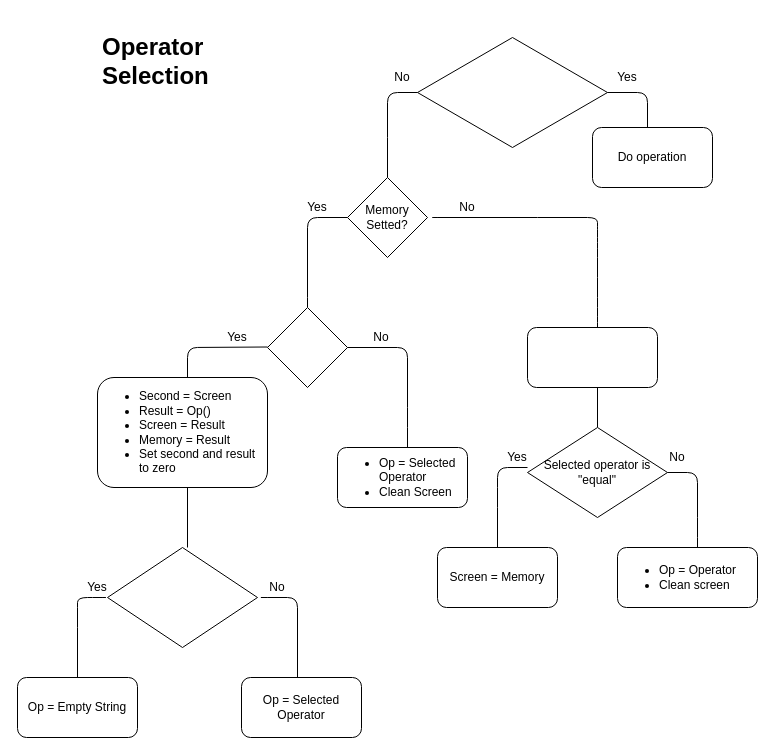
The diagram is 775 pixels wide and 755 high, and some of its shapes have lost their labels. Here are the shapes that lost their labels. From the top down, the centre of each, then its label:
the point at 512,92: Selected operator is C, CE or BS?
the point at 307,347: Op is setted?
the point at 592,357: Memory = Screen
the point at 182,597: Clicked operator is "equal"?
